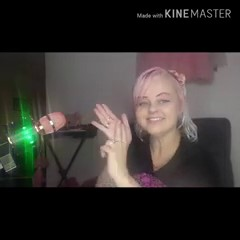M: (85, 99, 136, 183)
